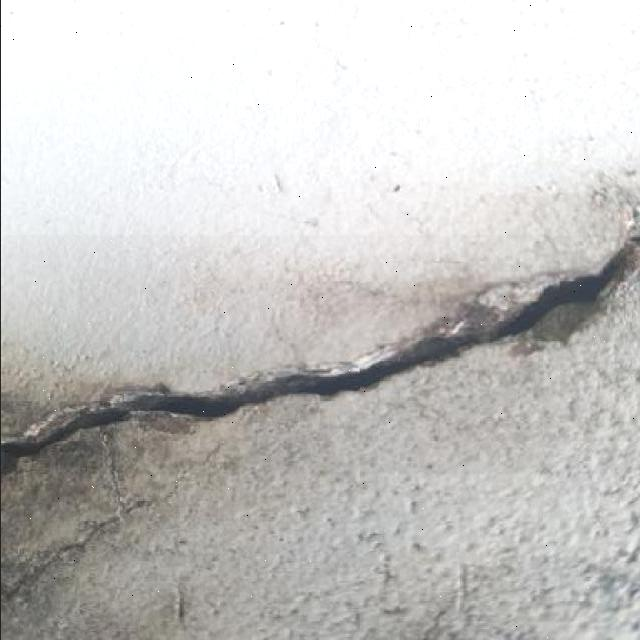crack: (4, 192, 631, 511)
